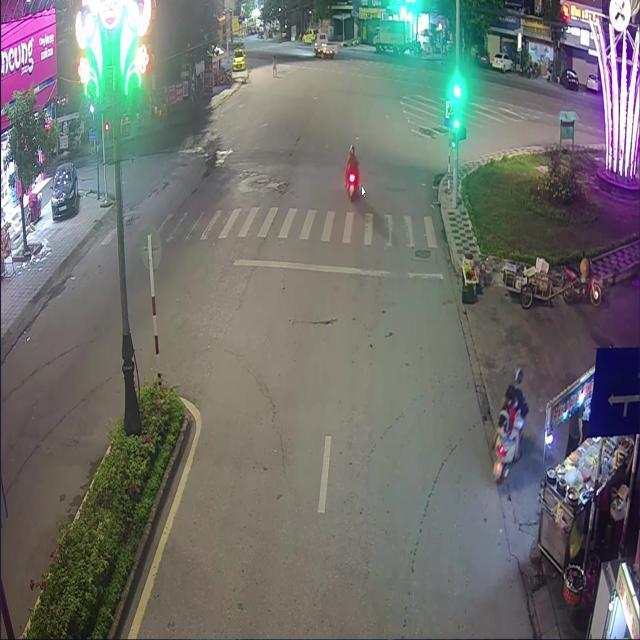green_light: (452, 97, 459, 127)
motobike: (492, 427, 513, 479), (345, 172, 355, 199)
stop_line: (231, 258, 442, 280)
